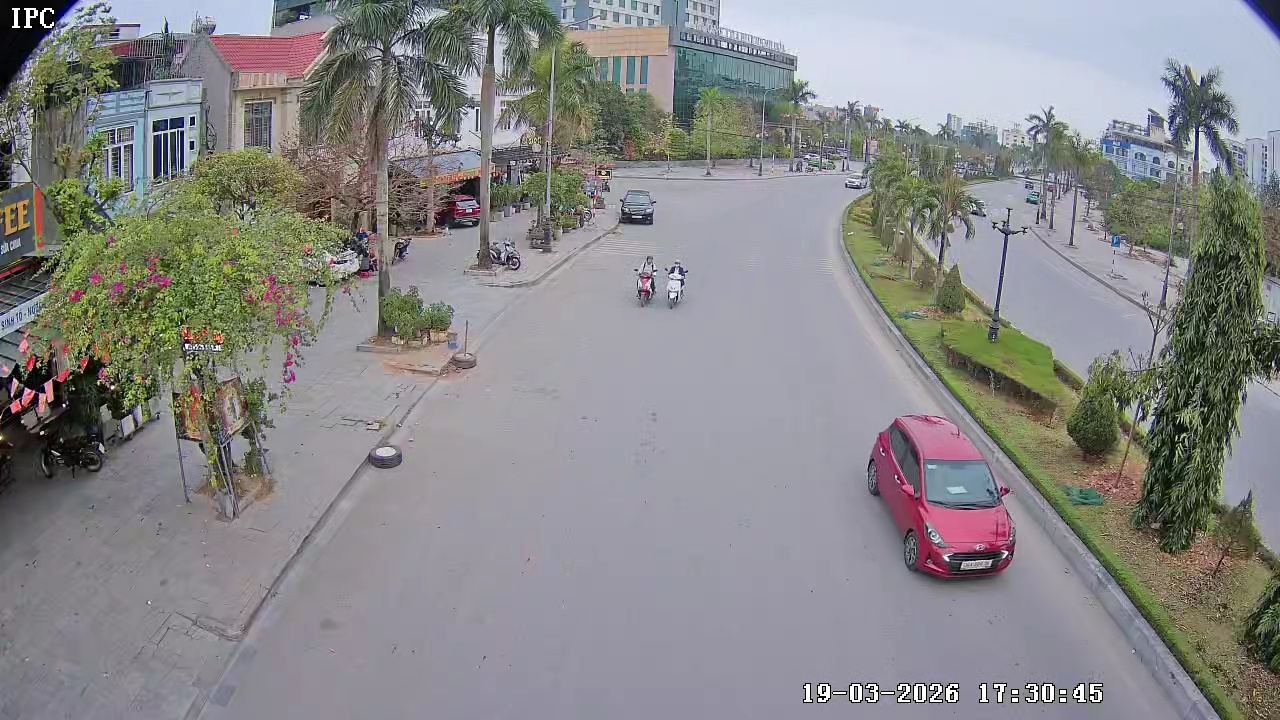car: (865, 413, 1017, 578), (617, 187, 657, 224)
motorbike: (633, 255, 659, 306), (664, 259, 689, 309)
